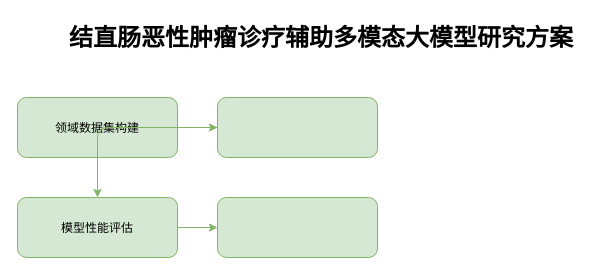
Image size: 591x275. Some labels were removed from this diagram. Each missing label, with the centre of its shape:
"大模型训练" belongs at point (297, 127).
"小型化部署" belongs at point (297, 227).
